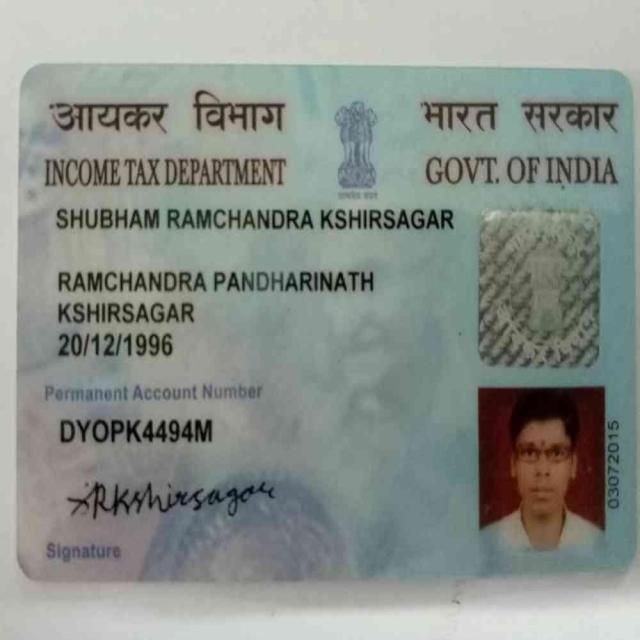pan_card: (16, 71, 631, 570)
